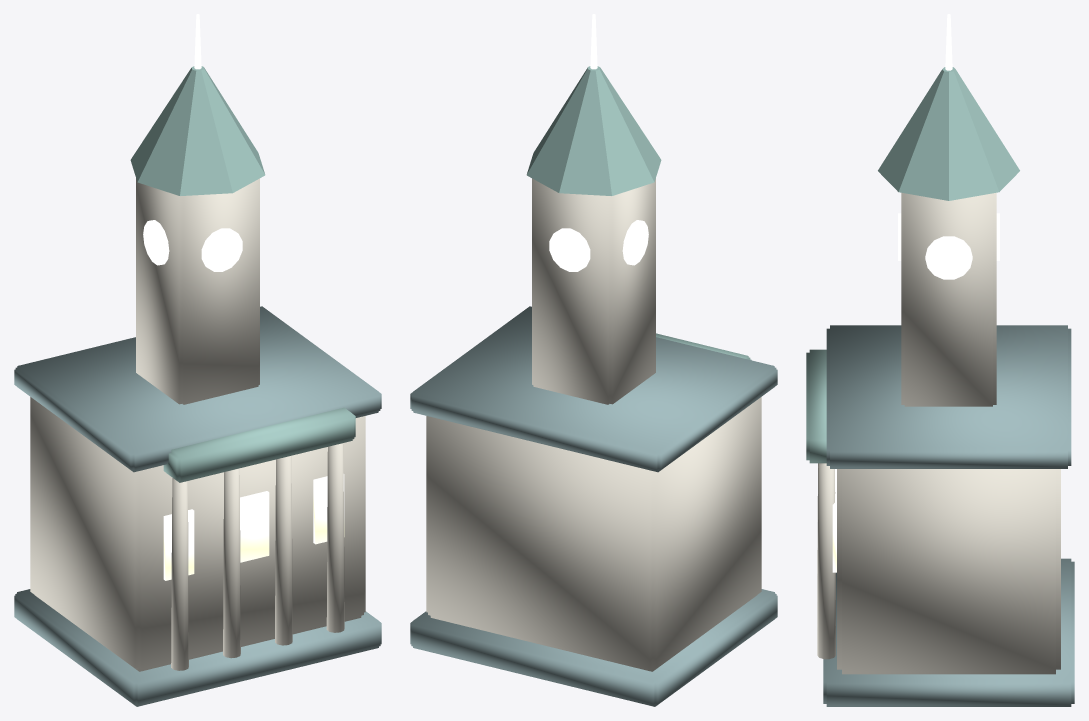
File: city-hall.glb
The picture shows the model from 3 angles, left to right: view 1: azimuth 30°, elevation 25°; view 2: azimuth 150°, elevation 25°; view 3: azimuth 270°, elevation 25°; orthographic projection. The views are drawn at different scales.
Parts seen in each view (by area): view 1: CityHall; view 2: CityHall; view 3: CityHall.
Part boxes in pixels (x1,y1,x2,y2): CityHall: (14, 14, 381, 706); CityHall: (410, 14, 777, 706); CityHall: (806, 14, 1074, 706).
Size of the model in its own units: 1.74 by 4.11 by 1.58.
